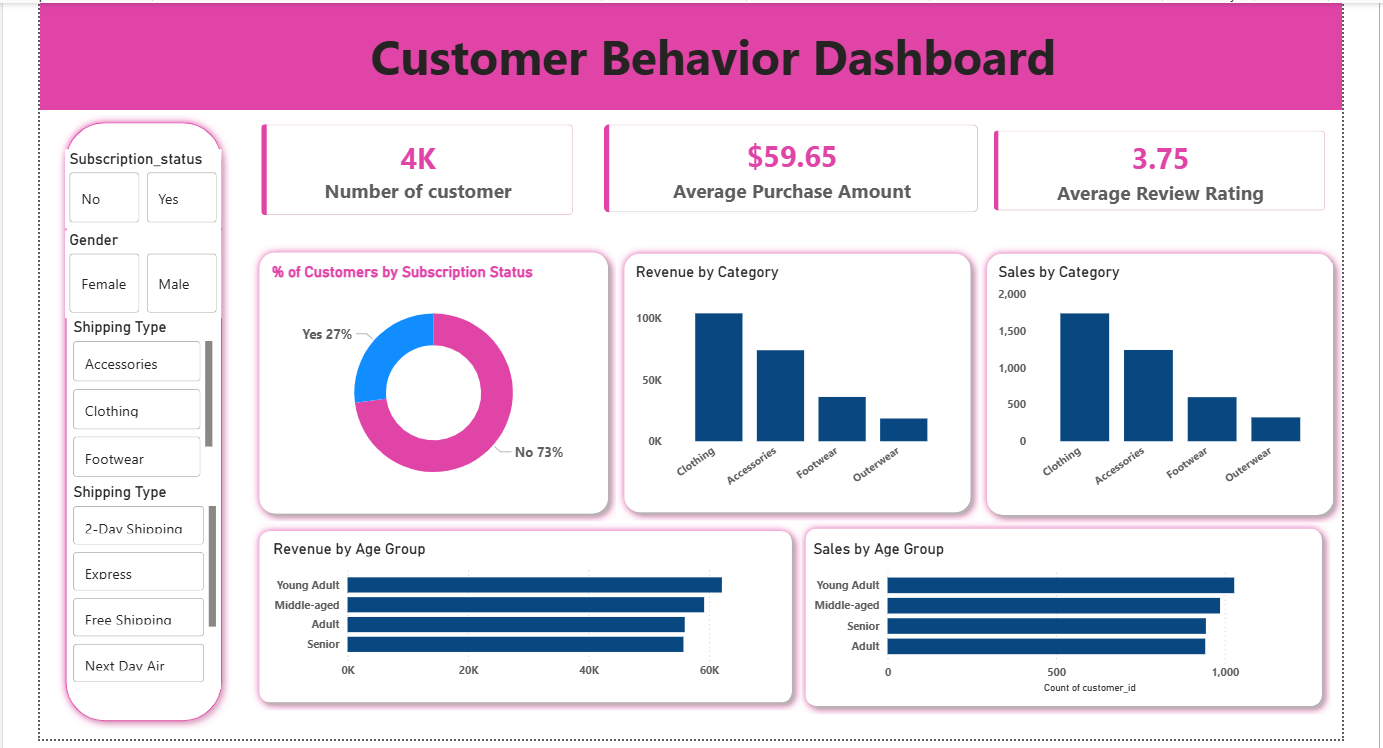

What the dashboard file says about the page in this screenshot:
{"tool":"powerbi","page":{"name":"Page 1","canvas":[1450,820],"ordinal":0},"visuals":[{"type":"cardVisual","fields":{"Data":["customer_data(project).Number of Customers"]},"box":[229.8,118.4,381.6,135.1],"z":0},{"type":"cardVisual","fields":{"Data":["customer_data(project).Average Purchase Amount"]},"box":[611.4,118.4,451.2,132.3],"z":1000},{"type":"cardVisual","fields":{"Data":["customer_data(project).Average Review Rating"]},"box":[1045.9,125.3,403.9,123.9],"z":2000},{"type":"shape","box":[48.2,0,1434.4,119],"z":3000},{"type":"textbox","box":[0,0,1500.3,119],"z":4000},{"type":"shape","box":[235.4,268.8,406.7,309.2],"z":5000},{"type":"donutChart","title":"% of Customers by Subscription Status","fields":{"Category":["customer_data(project1).subscription_status"],"Y":["CountNonNull(customer_data(project1).customer_id)"]},"box":[253.5,289.7,370.5,268.8],"z":6000},{"type":"shape","box":[642,270.2,403.9,306.4],"z":7000},{"type":"shape","box":[1045.9,270.2,403.9,309.2],"z":8000},{"type":"clusteredColumnChart","title":"Revenue by Category","fields":{"Y":["Sum(customer_data(project1).purchase_amount)"],"Category":["customer_data(project1).category"]},"box":[658.7,289.7,364.9,268.8],"z":9000},{"type":"clusteredColumnChart","title":"Sales by Category","fields":{"Y":["CountNonNull(customer_data(project1).customer_id)"],"Category":["customer_data(project1).category"]},"box":[1062.6,289.7,377.4,268.8],"z":10000},{"type":"shape","box":[19.5,123.9,192.2,685.2],"z":11000},{"type":"advancedSlicerVisual","fields":{"Values":["customer_data(project1).subscription_status"]},"box":[27.9,162.9,174.1,87.7],"z":12000},{"type":"advancedSlicerVisual","title":"Gender","fields":{"Values":["customer_data(project1).gender"]},"box":[27.9,253.5,174.1,97.5],"z":13000},{"type":"advancedSlicerVisual","title":"Shipping Type","fields":{"Values":["customer_data(project1).shipping_type"]},"box":[32,534.8,169.9,229.8],"z":14000},{"type":"advancedSlicerVisual","title":"Shipping Type","fields":{"Values":["customer_data(project1).category"]},"box":[32,351,165.7,183.8],"z":15000},{"type":"shape","box":[844,576.6,593.3,215.9],"z":17000},{"type":"shape","box":[235.4,579.4,611.4,208.9],"z":18000},{"type":"clusteredBarChart","title":"Revenue by Age Group","fields":{"Y":["Sum(customer_data(project1).purchase_amount)"],"Category":["customer_data(project1).age_group"]},"box":[254.9,597.5,573.8,164.3],"z":20000},{"type":"clusteredBarChart","box":[866.2,597.5,550.1,167.1],"z":20001},{"type":"clusteredBarChart","title":"Sales by Age Group","fields":{"Y":["CountNonNull(customer_data(project1).customer_id)"],"Category":["customer_data(project1).age_group"]},"box":[856.5,597.5,559.9,176.9],"z":20002}]}

Visuals, with their boxes on the page's 1450x820 design canvas (x1, y1, x2, y2). These are canvas units, not pixel positions in the 1383x748 screenshot, which may show the page scaled, cropped or inside an application window:
cardVisual - customer_data(project).Number of Customers: detection(230, 118, 611, 254)
cardVisual - customer_data(project).Average Purchase Amount: detection(611, 118, 1063, 251)
cardVisual - customer_data(project).Average Review Rating: detection(1046, 125, 1450, 249)
shape: detection(48, 0, 1483, 119)
textbox: detection(0, 0, 1500, 119)
shape: detection(235, 269, 642, 578)
"% of Customers by Subscription Status" donutChart: detection(254, 290, 624, 558)
shape: detection(642, 270, 1046, 577)
shape: detection(1046, 270, 1450, 579)
"Revenue by Category" clusteredColumnChart: detection(659, 290, 1024, 558)
"Sales by Category" clusteredColumnChart: detection(1063, 290, 1440, 558)
shape: detection(20, 124, 212, 809)
advancedSlicerVisual - customer_data(project1).subscription_status: detection(28, 163, 202, 251)
"Gender" advancedSlicerVisual: detection(28, 254, 202, 351)
"Shipping Type" advancedSlicerVisual: detection(32, 535, 202, 765)
"Shipping Type" advancedSlicerVisual: detection(32, 351, 198, 535)
shape: detection(844, 577, 1437, 792)
shape: detection(235, 579, 847, 788)
"Revenue by Age Group" clusteredBarChart: detection(255, 598, 829, 762)
clusteredBarChart: detection(866, 598, 1416, 765)
"Sales by Age Group" clusteredBarChart: detection(856, 598, 1416, 774)
